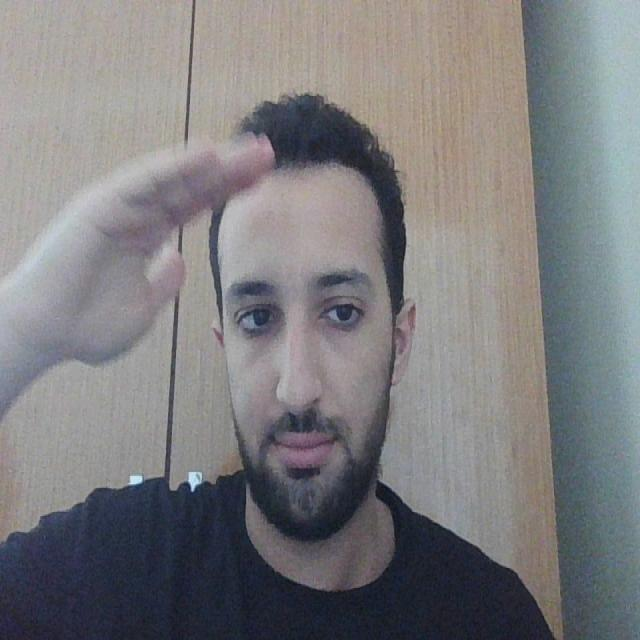Merhaba: (21, 128, 279, 410)
